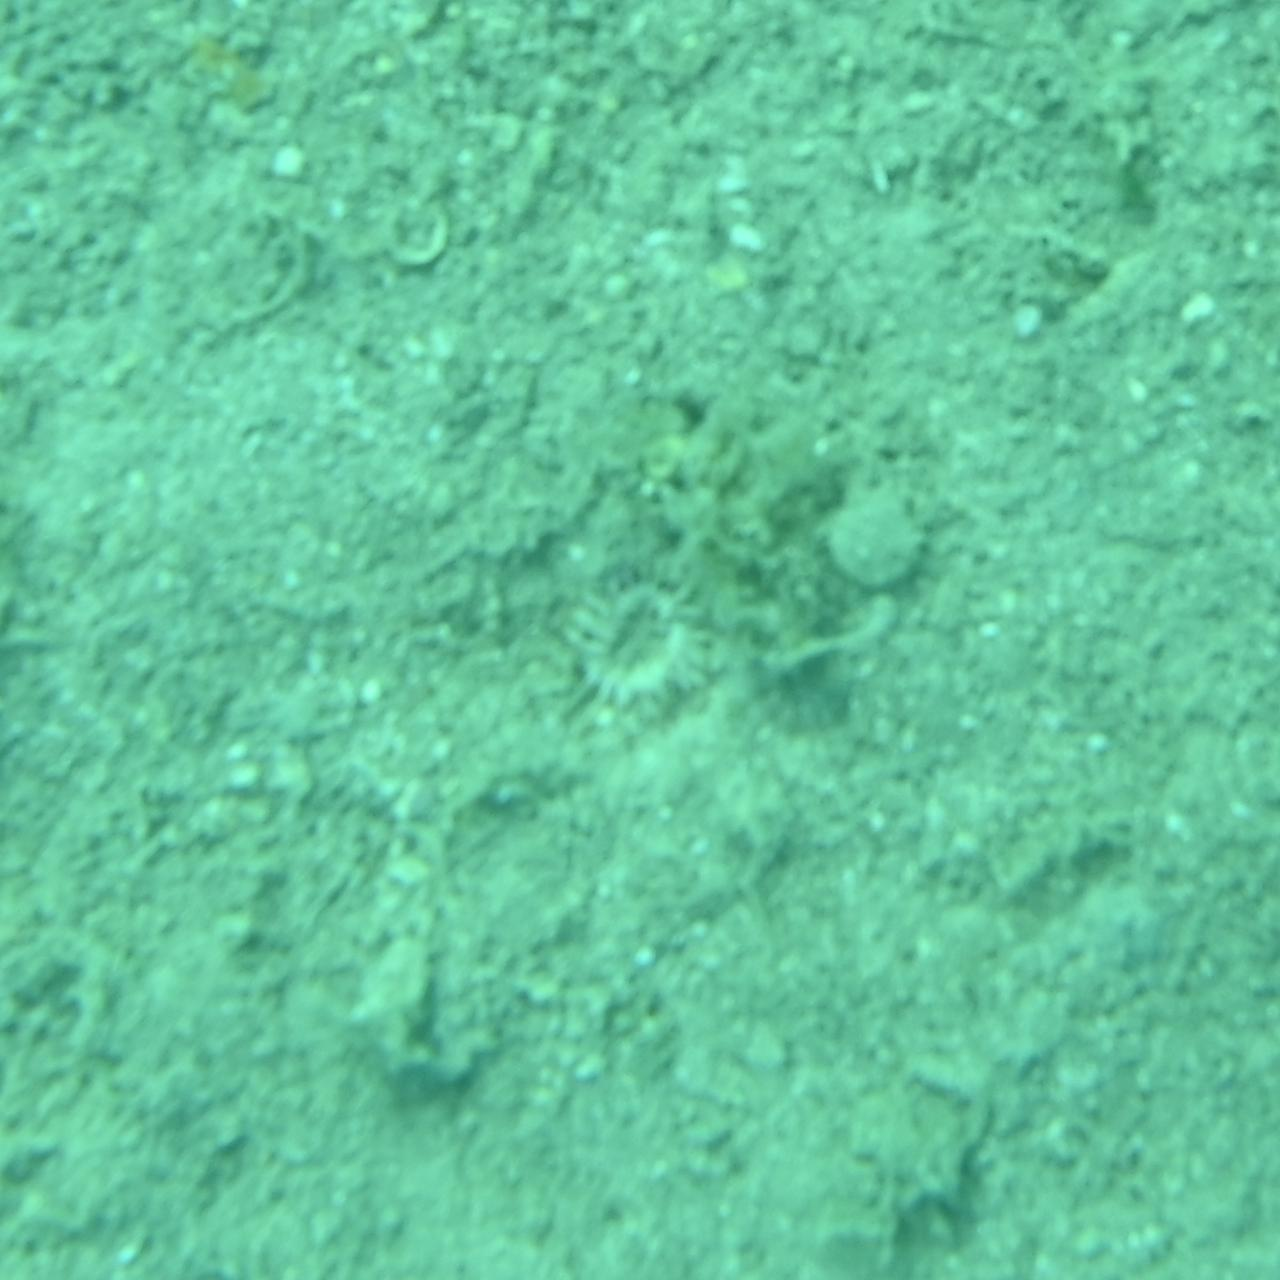Condylactis aurantiaca: (544, 540, 736, 740)
